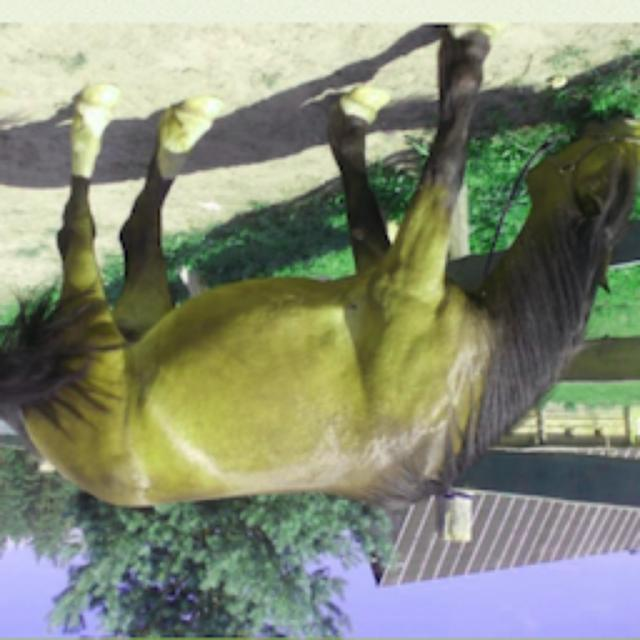Horse: (0, 25, 638, 520)
